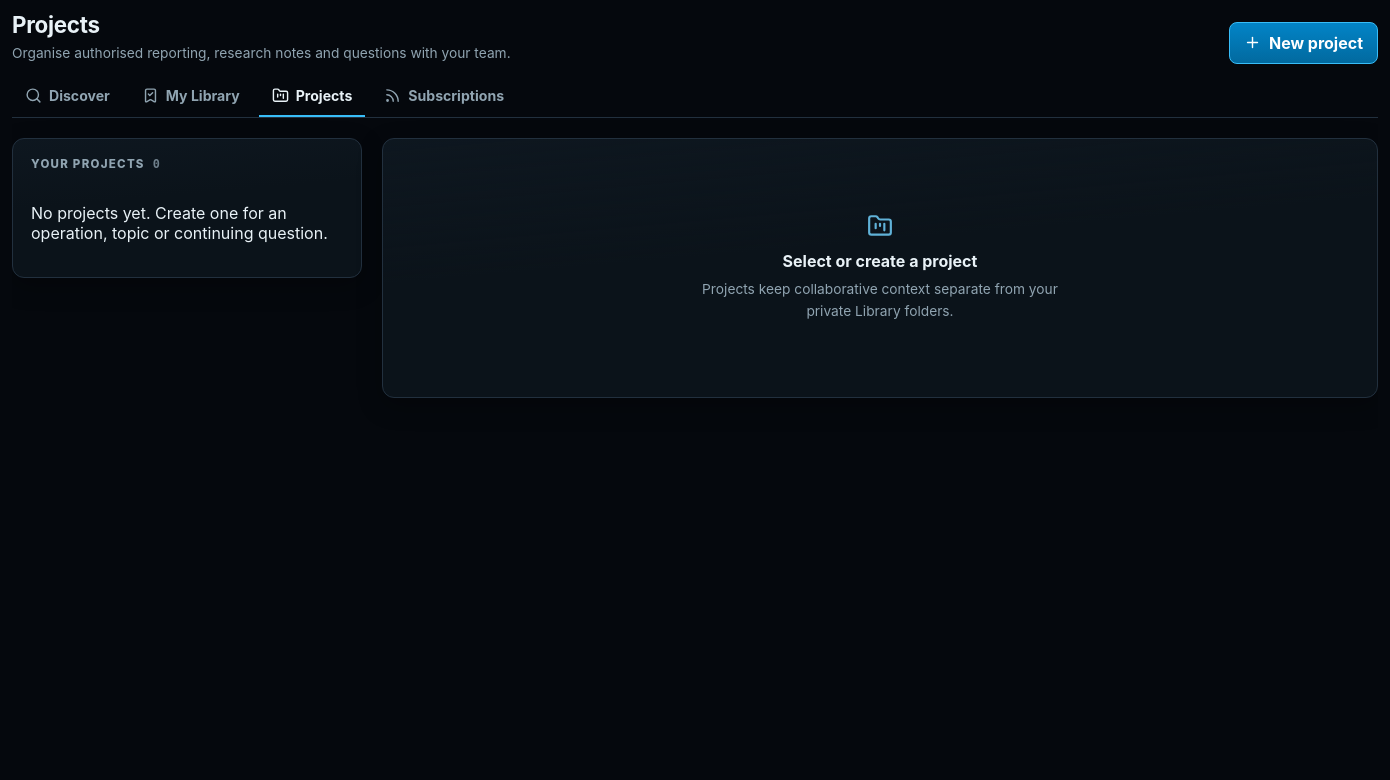
Test: creates a scoped project and opens its workspace
Click the button "New project".
click(1303, 42)  # box [1229,22,1378,64]
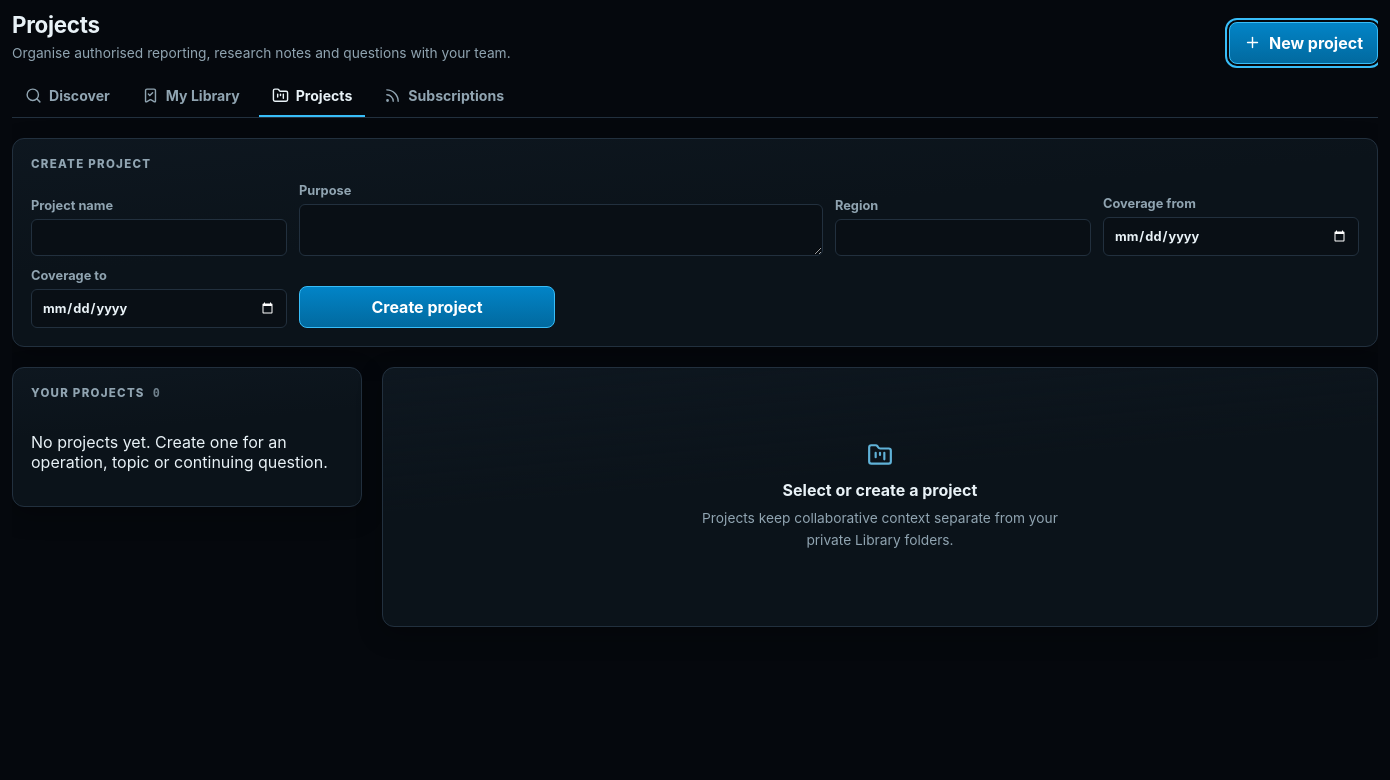
Type "Eastern Europe watch" into the field labelled "Project name".
click(159, 237); type("Eastern Europe watch")  # box [31,218,287,256]
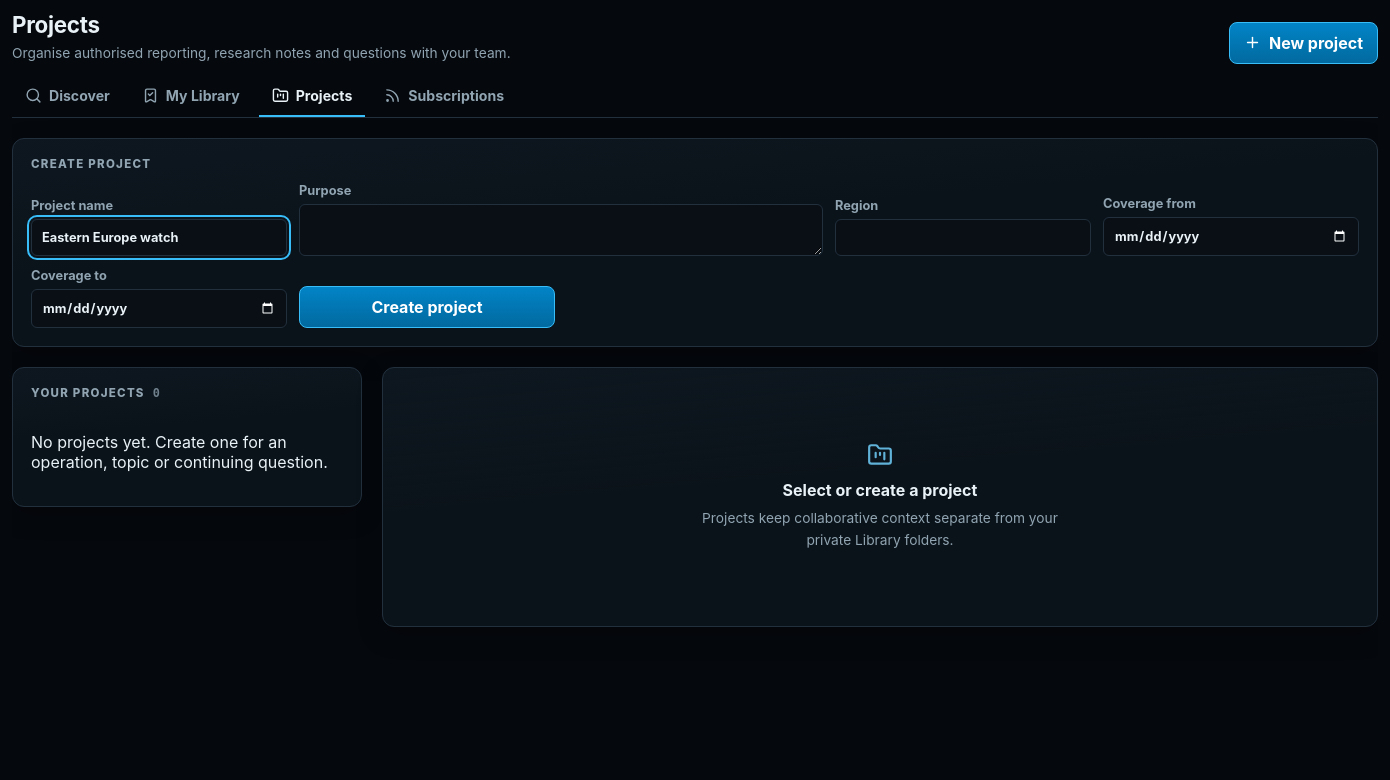
Type "Track regional reporting" into the text box labelled "Purpose".
click(561, 230); type("Track regional reporting")  # box [299,204,823,256]
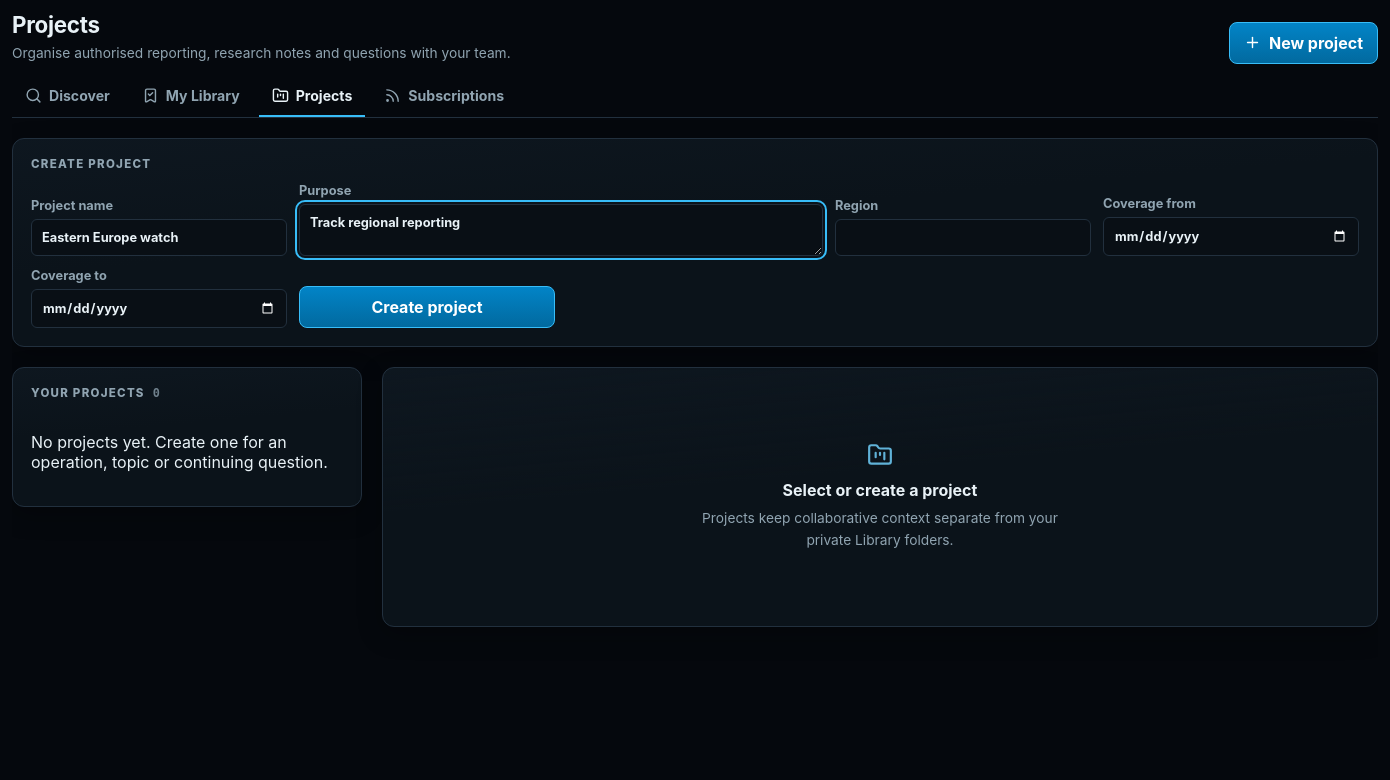
Type "Eastern Europe" into the field labelled "Region".
click(963, 237); type("Eastern Europe")  # box [835,218,1091,256]
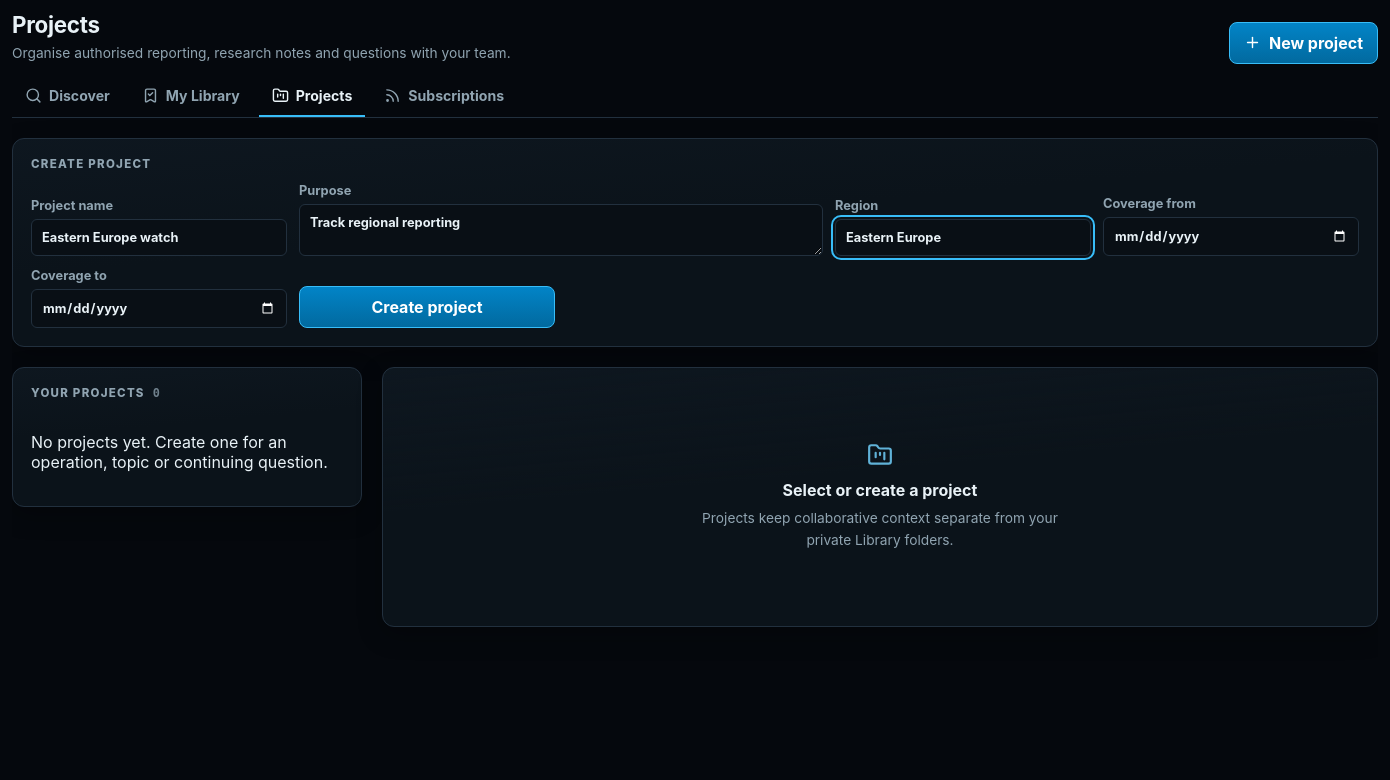
Click the button "Create project".
click(427, 306)  # box [299,286,555,328]
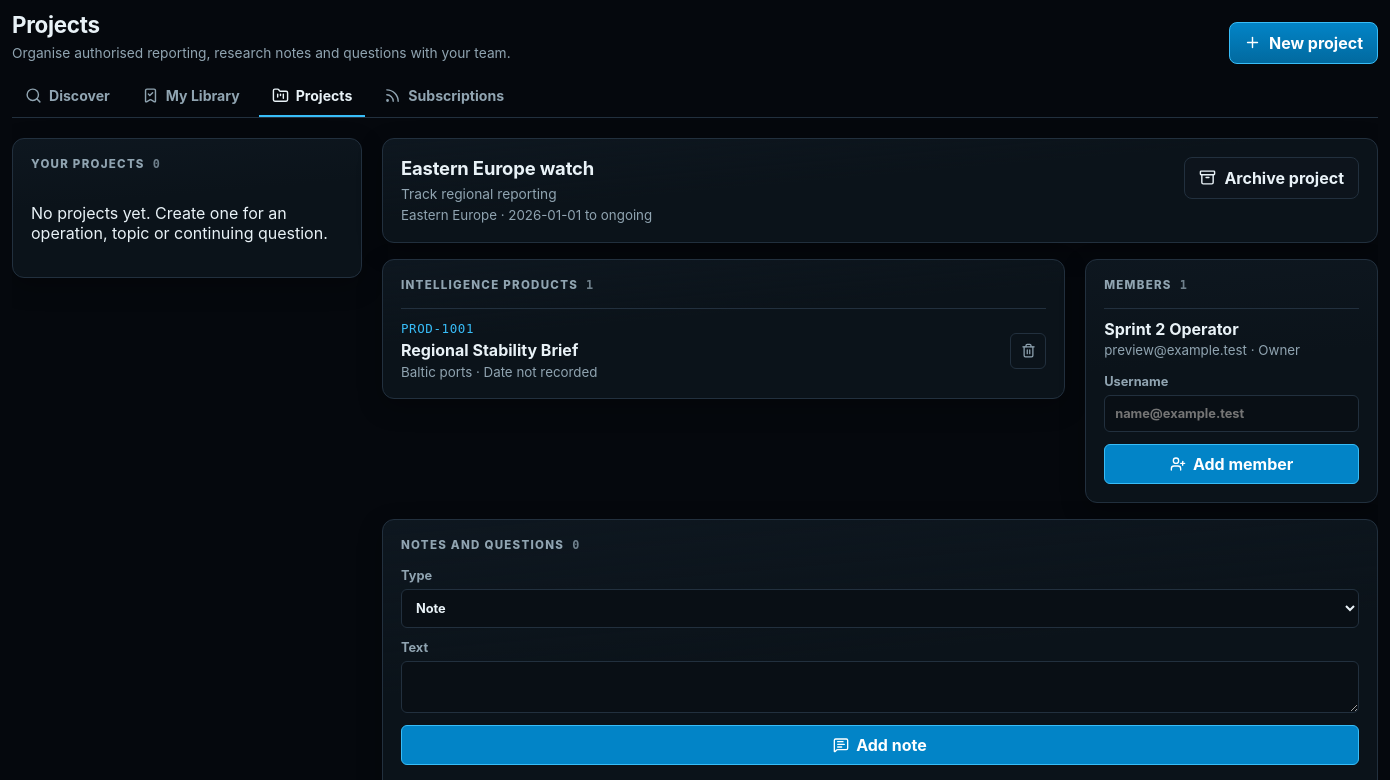
Check: the heading "Eastern Europe watch" is shown, box [401,156,594,178]
